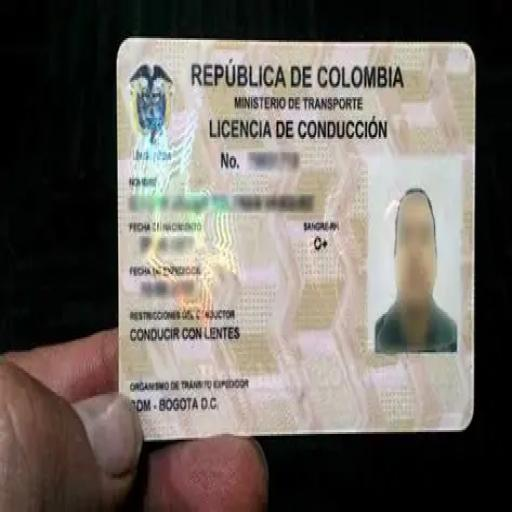colombia: (187, 55, 410, 91)
escudo de colombia: (126, 54, 180, 164)
fechaexpedicion: (132, 276, 213, 299)
fechanacimiento: (128, 235, 204, 256)
foto: (367, 157, 458, 354)
ministerio de transporte: (229, 96, 378, 115)
nombre: (122, 191, 317, 213)
numerolic: (217, 146, 355, 171)
tarjeta conduccion: (117, 38, 474, 443)
titulo licencia: (203, 113, 394, 140)
